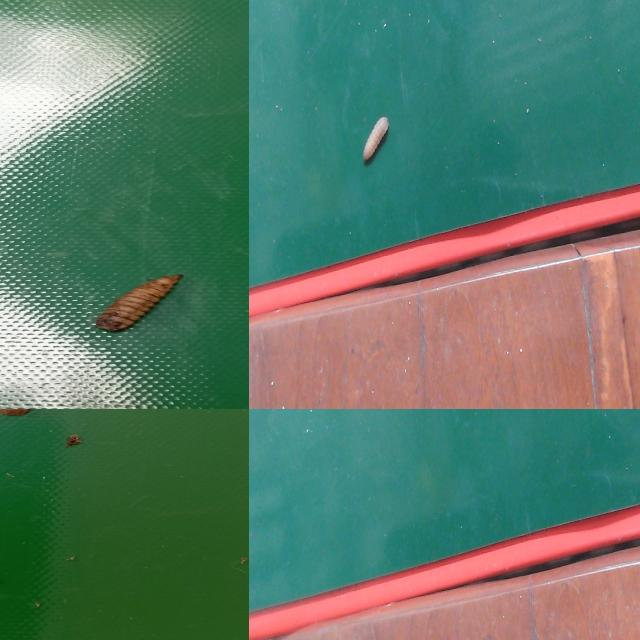Maggot: (95, 274, 182, 334), (361, 117, 390, 168)
